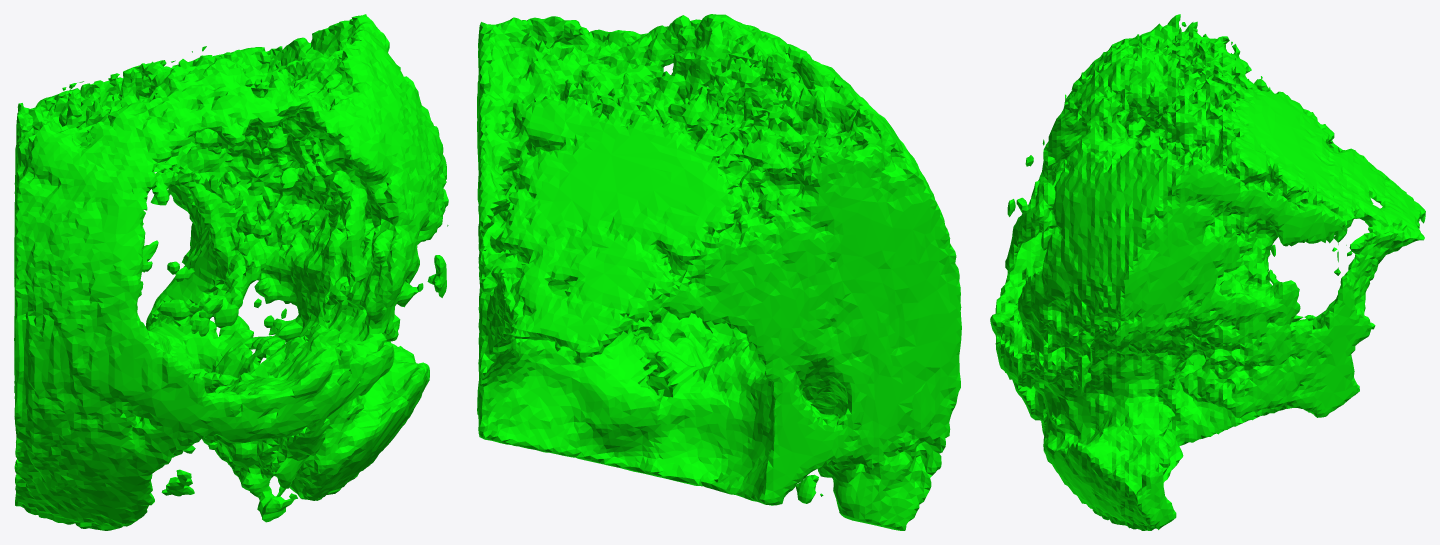
File: B939XXXX-1_base_25.obj
The picture shows the model from 3 angles, left to right: view 1: azimuth 30°, elevation 25°; view 2: azimuth 150°, elevation 25°; view 3: azimuth 270°, elevation 25°; orthographic projection. The views are drawn at different scales.
Visible parts, largest first — view 1: 25_base; view 2: 25_base; view 3: 25_base.
Part boxes in pixels (box(x1,y1,x2,y2)): 25_base: box(14, 14, 448, 530); 25_base: box(477, 14, 961, 530); 25_base: box(990, 14, 1425, 530).
Bounding box in the file's own units: 218 × 216 × 204.
